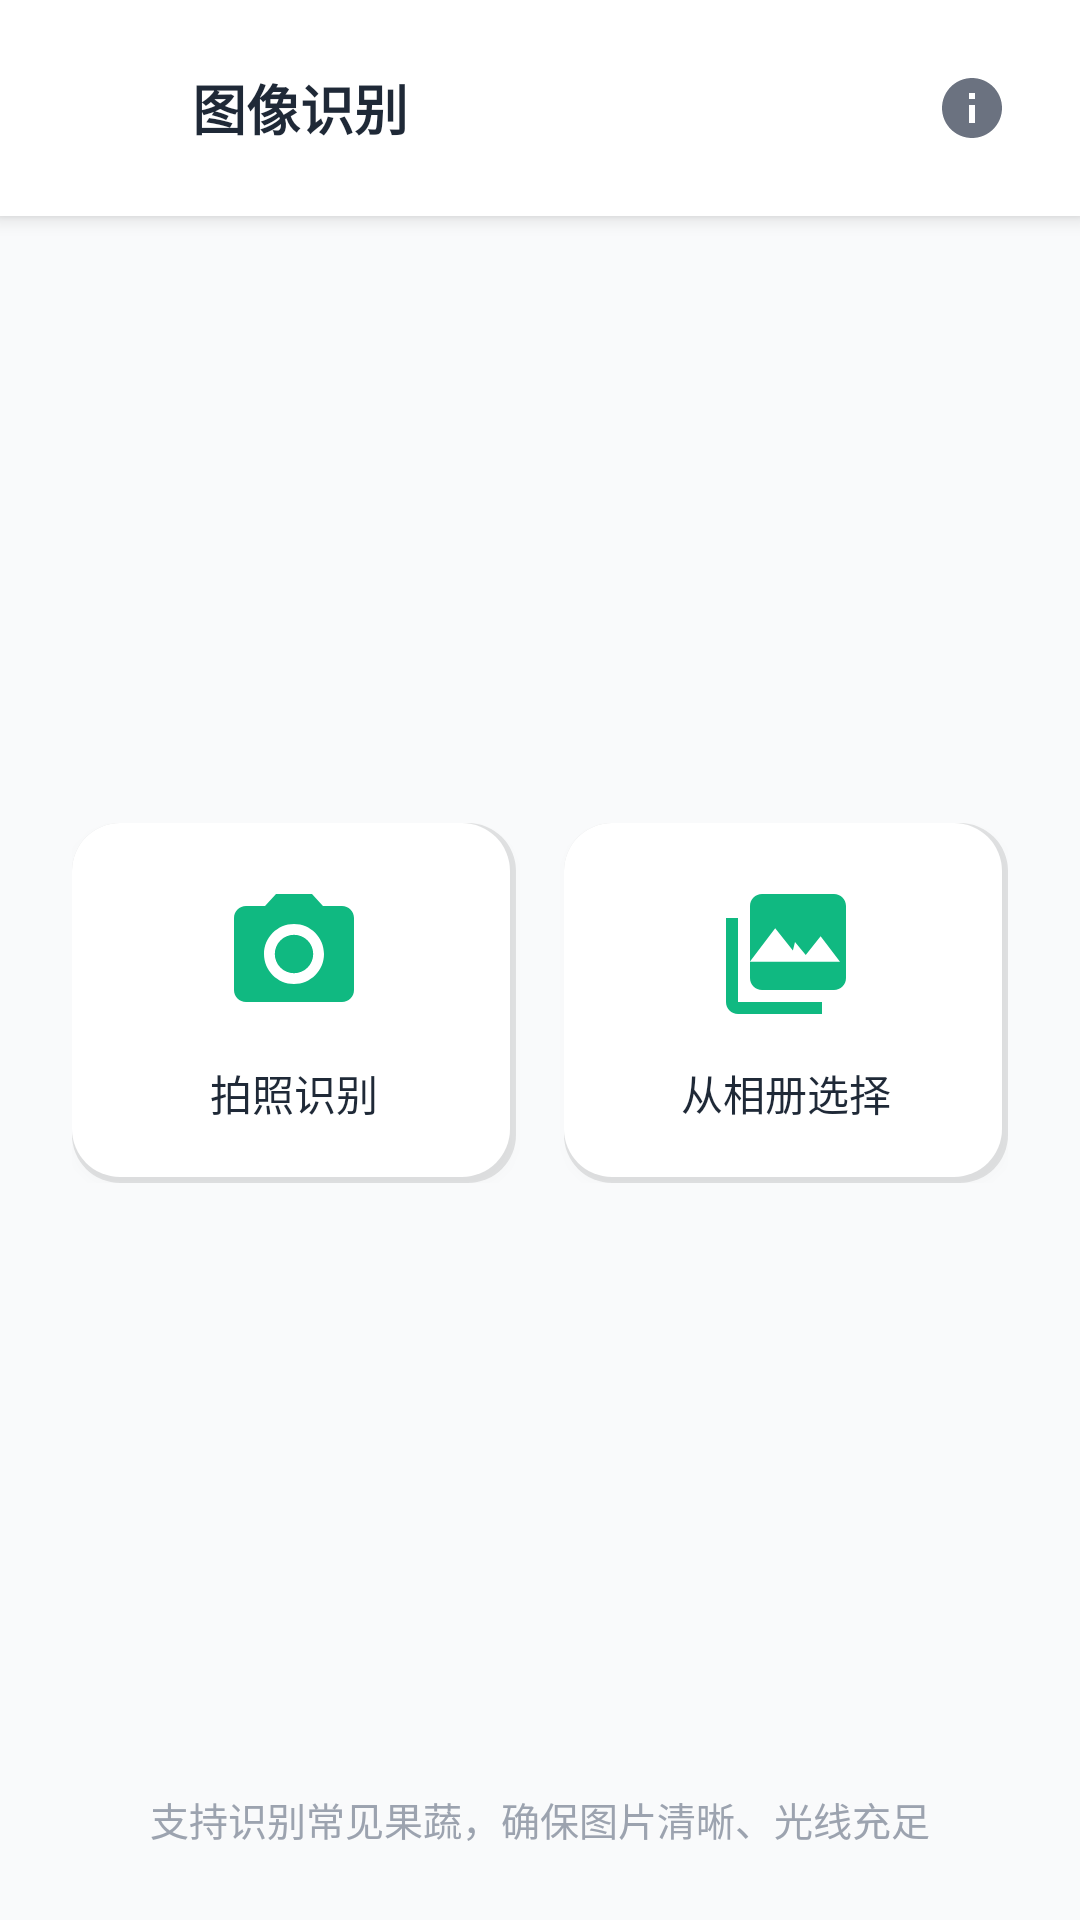

Screen size 1080 × 1920. Icon name, then its box in pixels as (left=x1, top=y1, right=x2, bottom=y2):
camera: (left=234, top=894, right=354, bottom=1002)
gallery: (left=726, top=894, right=846, bottom=1014)
info: (left=942, top=78, right=1002, bottom=138)
